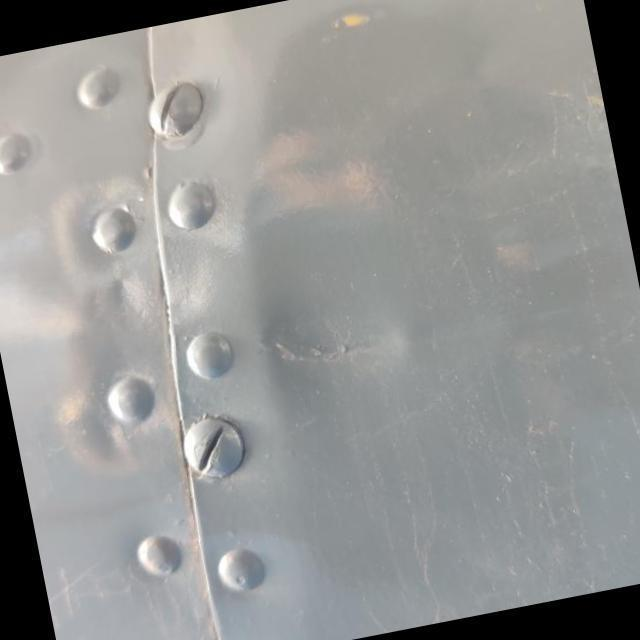Dent: (238, 270, 430, 414)
